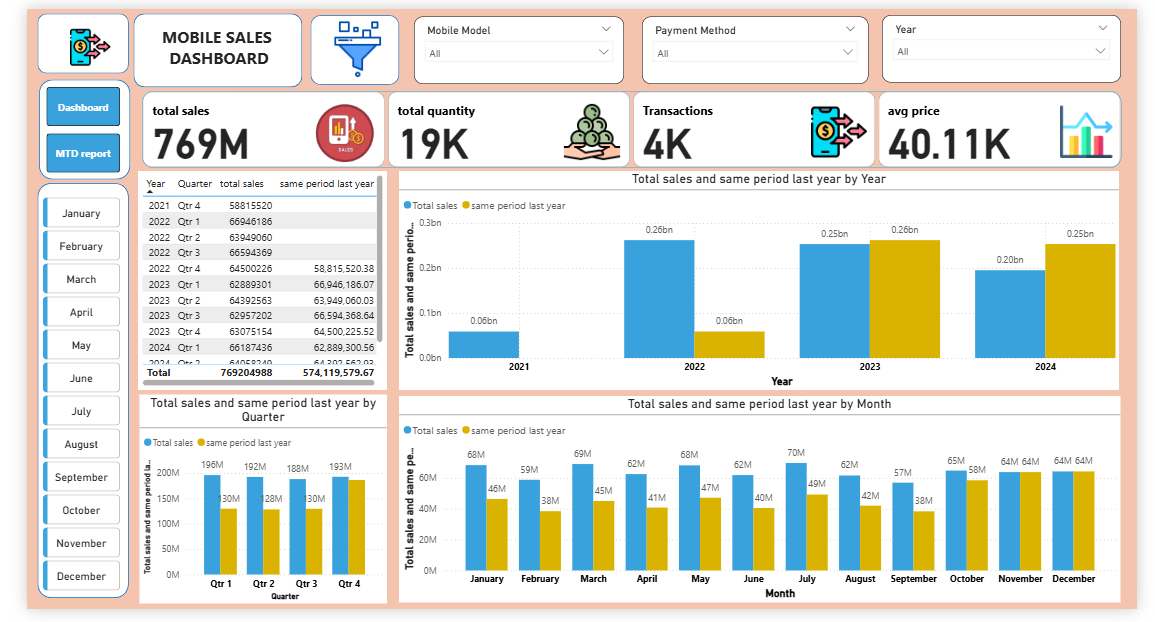

This screenshot's page, from the dashboard's own definition file:
{"tool":"powerbi","page":{"name":"Same period last year","canvas":[1480,800],"ordinal":2},"visuals":[{"type":"shape","box":[13.3,6.7,121.7,80],"z":0},{"type":"image","box":[52.9,17.1,64.3,65.7],"z":1000},{"type":"shape","box":[15,93.3,121.7,133.3],"z":2000},{"type":"cardVisual","fields":{"Data":["sales_data.total sales","sales_data.total quantity","sales_data.Transactions","sales_data.avg price"]},"box":[148.3,103.3,1318.3,113.3],"z":3000},{"type":"shape","box":[378.3,8.3,118.3,93.3],"z":4000},{"type":"image","box":[343.3,10,193.3,86.7],"z":5000},{"type":"slicer","fields":{"Values":["sales_data.Mobile Model"]},"box":[515,10,280,90],"z":6000},{"type":"slicer","fields":{"Values":["sales_data.Payment Method"]},"box":[820,10,301.7,90],"z":7000},{"type":"slicer","fields":{"Values":["custom_calender.date.Variation.Date Hierarchy.Year"]},"box":[1140,8.3,318.3,90],"z":8000},{"type":"shape","box":[141.7,5,225,98.3],"z":9000},{"type":"textbox","box":[155,16.7,200,80],"z":10000},{"type":"shape","box":[13.3,231.7,121.7,553.3],"z":11000},{"type":"tableEx","fields":{"Values":["custom_calender.date.Variation.Date Hierarchy.Year","custom_calender.date.Variation.Date Hierarchy.Quarter","sales_data.total sales","sales_data.same period last year"]},"box":[148.3,216.7,331.7,291.7],"z":12000},{"type":"clusteredColumnChart","fields":{"Category":["custom_calender.date.Variation.Date Hierarchy.Year","custom_calender.date.Variation.Date Hierarchy.Quarter"],"Y":["sales_data.total sales","sales_data.same period last year"]},"box":[496.7,216.7,960,291.7],"z":13000},{"type":"clusteredColumnChart","fields":{"Y":["sales_data.total sales","sales_data.same period last year"],"Category":["custom_calender.date.Variation.Date Hierarchy.Month"]},"box":[495,516.7,961.7,275],"z":14000},{"type":"clusteredColumnChart","fields":{"Category":["custom_calender.date.Variation.Date Hierarchy.Quarter"],"Y":["sales_data.total sales","sales_data.same period last year"]},"box":[150,513.3,330,278.3],"z":15000},{"type":"advancedSlicerVisual","fields":{"Values":["custom_calender.date.Variation.Date Hierarchy.Month"]},"box":[15,245,113.3,538.3],"z":16000},{"type":"pageNavigator","box":[25,103.3,98.3,115],"z":17000}]}

Visuals, with their boxes in screenshot pixels (x1, y1, x2, y2), scaled from the page's 1480x800 canvas onto the 1155x622 screenshot:
shape: BBox(10, 5, 105, 67)
image: BBox(41, 13, 91, 64)
shape: BBox(12, 73, 107, 176)
cardVisual - sales_data.total sales x sales_data.total quantity: BBox(116, 80, 1145, 168)
shape: BBox(295, 6, 388, 79)
image: BBox(268, 8, 419, 75)
slicer - sales_data.Mobile Model: BBox(402, 8, 620, 78)
slicer - sales_data.Payment Method: BBox(640, 8, 875, 78)
slicer - custom_calender.date.Variation.Date Hierarchy.Year: BBox(890, 6, 1138, 76)
shape: BBox(111, 4, 286, 80)
textbox: BBox(121, 13, 277, 75)
shape: BBox(10, 180, 105, 610)
tableEx - custom_calender.date.Variation.Date Hierarchy.Year x custom_calender.date.Variation.Date Hierarchy.Quarter: BBox(116, 168, 375, 395)
clusteredColumnChart - custom_calender.date.Variation.Date Hierarchy.Year x custom_calender.date.Variation.Date Hierarchy.Quarter: BBox(388, 168, 1137, 395)
clusteredColumnChart - sales_data.total sales x sales_data.same period last year: BBox(386, 402, 1137, 616)
clusteredColumnChart - custom_calender.date.Variation.Date Hierarchy.Quarter x sales_data.total sales: BBox(117, 399, 375, 615)
advancedSlicerVisual - custom_calender.date.Variation.Date Hierarchy.Month: BBox(12, 190, 100, 609)
pageNavigator: BBox(20, 80, 96, 170)
